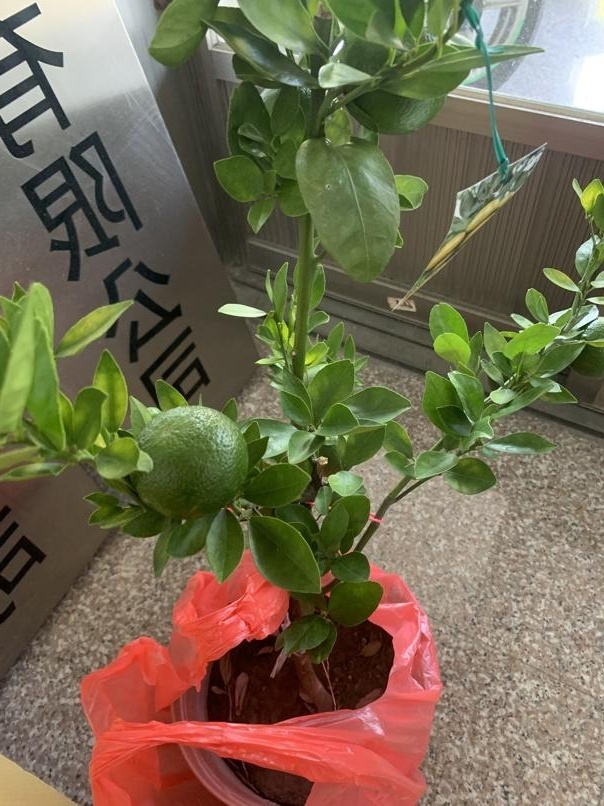Tangerine: (127, 403, 255, 517)
